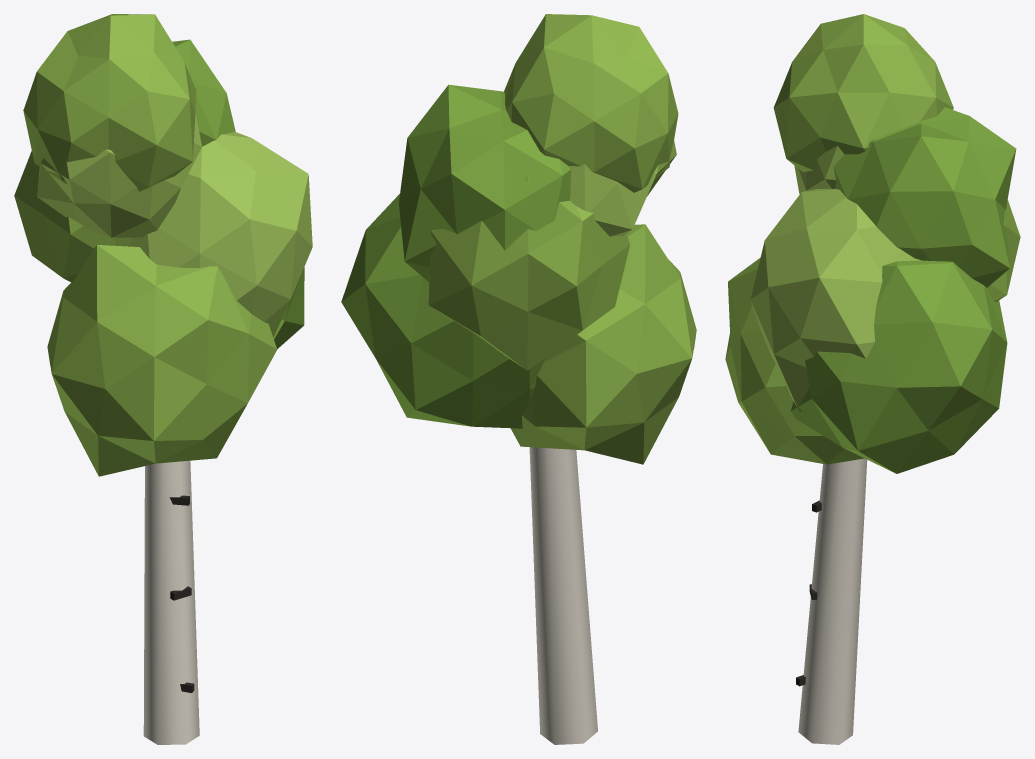
Rendered from tree_birch_3.glb.
3 renders of one model, left to right at view 1: azimuth 30°, elevation 25°; view 2: azimuth 150°, elevation 25°; view 3: azimuth 270°, elevation 25°, orthographic. The views are drawn at different scales.
Parts seen in each view (by area): view 1: crown, trunk; view 2: crown, trunk; view 3: crown, trunk.
Part boxes in pixels (left/top/right/bottom): crown: left=14, top=14, right=312, bottom=476; trunk: left=143, top=460, right=199, bottom=744; crown: left=341, top=14, right=696, bottom=464; trunk: left=529, top=447, right=597, bottom=744; crown: left=725, top=14, right=1020, bottom=473; trunk: left=796, top=458, right=867, bottom=744.
Bounding box in the file's own units: 1.01 × 2.55 × 0.9712.
